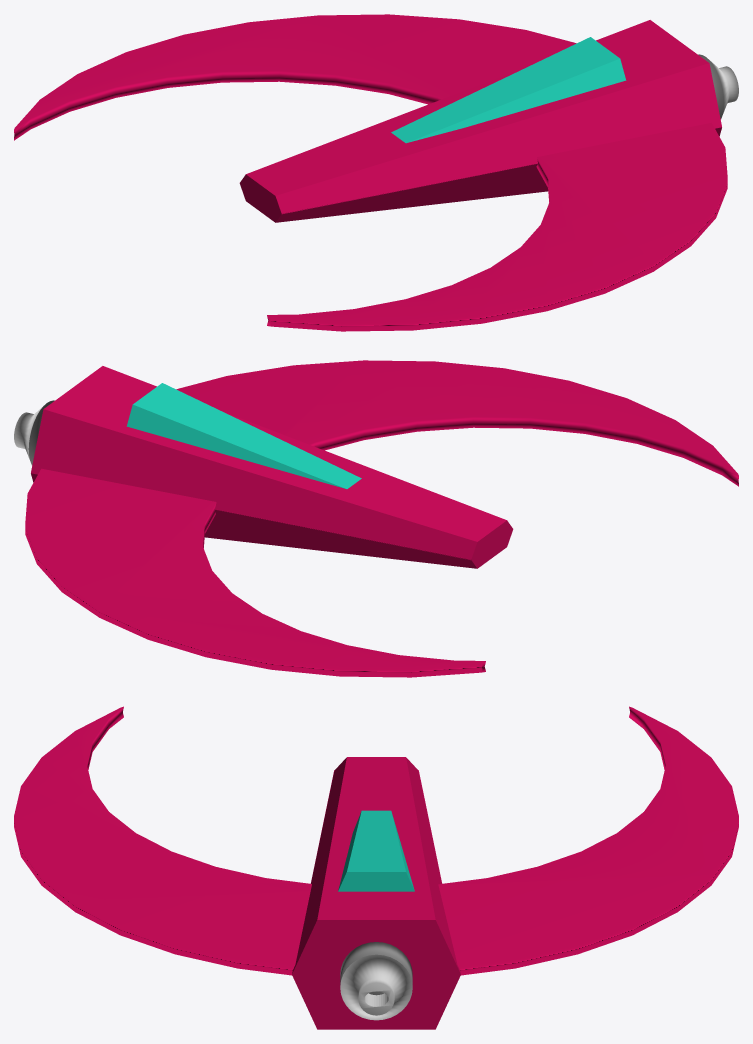
Rendered from player.fbx.
The picture shows the model from 3 angles, top to bottom: view 1: azimuth 30°, elevation 25°; view 2: azimuth 150°, elevation 25°; view 3: azimuth 270°, elevation 25°; orthographic projection.
Parts seen in each view (by area): view 1: Wings, Body, Cockpit, Reactor; view 2: Wings, Body, Cockpit, Reactor; view 3: Wings, Body, Cockpit, Reactor, Fuel.
Boxes of the visible parts, x1,y1,x2,y2 form: Wings: (14,14,727,331); Body: (239,20,721,222); Cockpit: (391,37,626,143); Reactor: (708,59,738,113); Wings: (25,360,738,677); Body: (31,366,513,568); Cockpit: (126,383,361,488); Reactor: (14,405,44,459); Wings: (14,706,738,975); Body: (292,757,460,1029); Cockpit: (338,810,414,891); Reactor: (340,954,412,1020); Fuel: (340,942,412,995).
Bounding box in the file's own units: 563 × 111 × 600.
